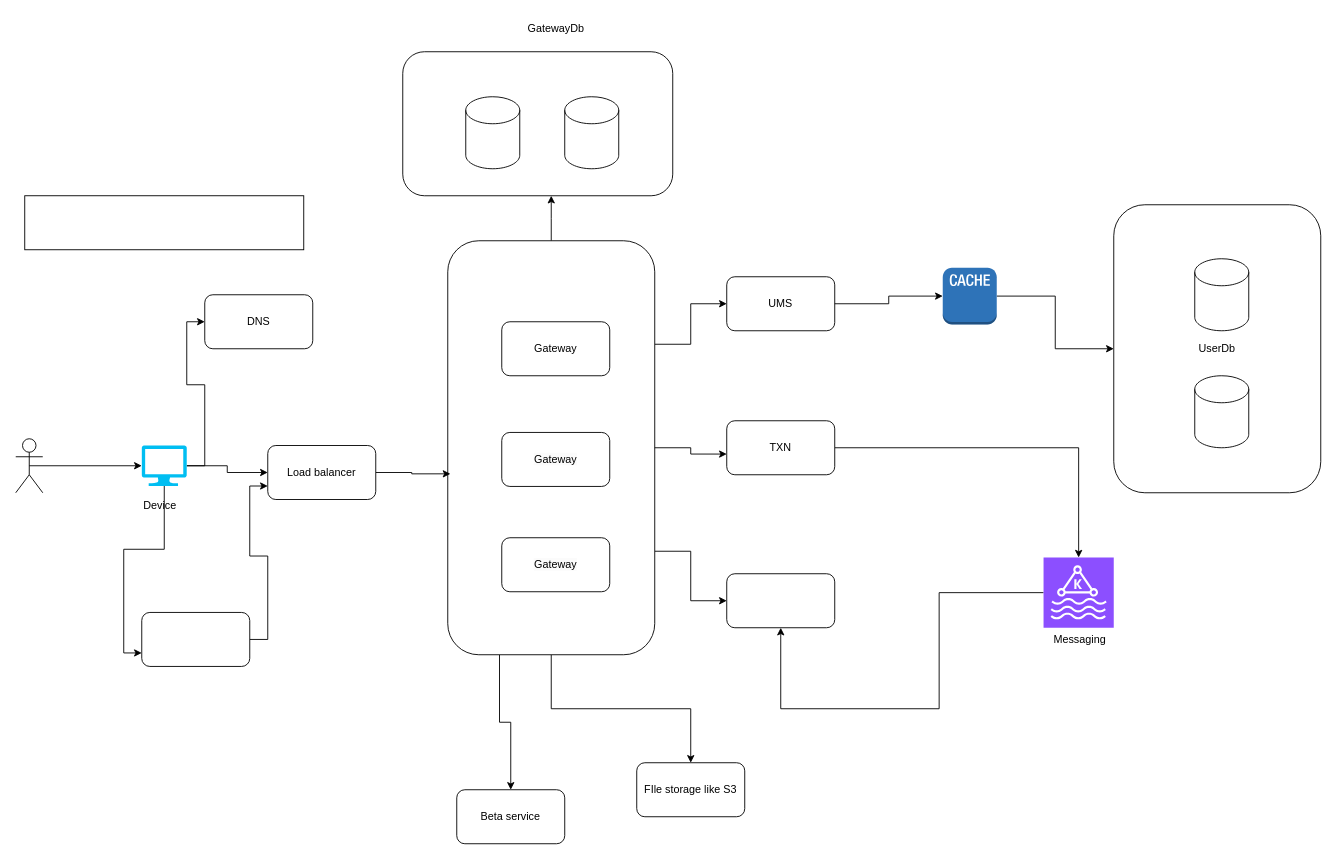
Image size: 1337x860. Some labels were removed from this diagram. Here are the shapes that lost their labels. From the top down, the centre of each, then its label:
[164,222]: Design a website. 1. state content, html 2. Media data 3, API data
[29,465]: Actor
[780,600]: Reporting
[195,639]: CDN
